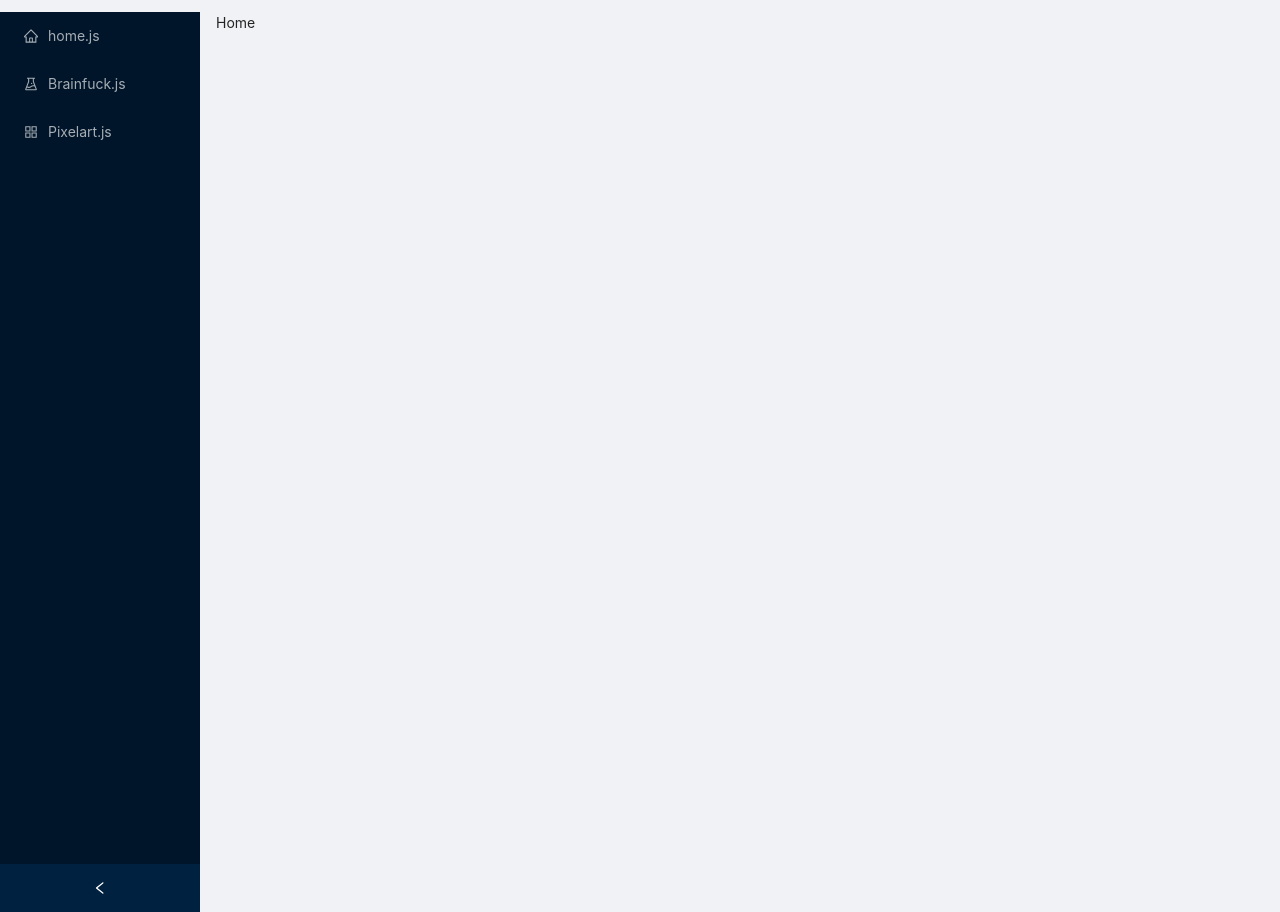
Test: changes to brainfuck page
Expected: the text "Home" is shown, [216,14,255,31]
Click the menu item "Brainfuck.js" at (75, 84), box [24,75,126,92]
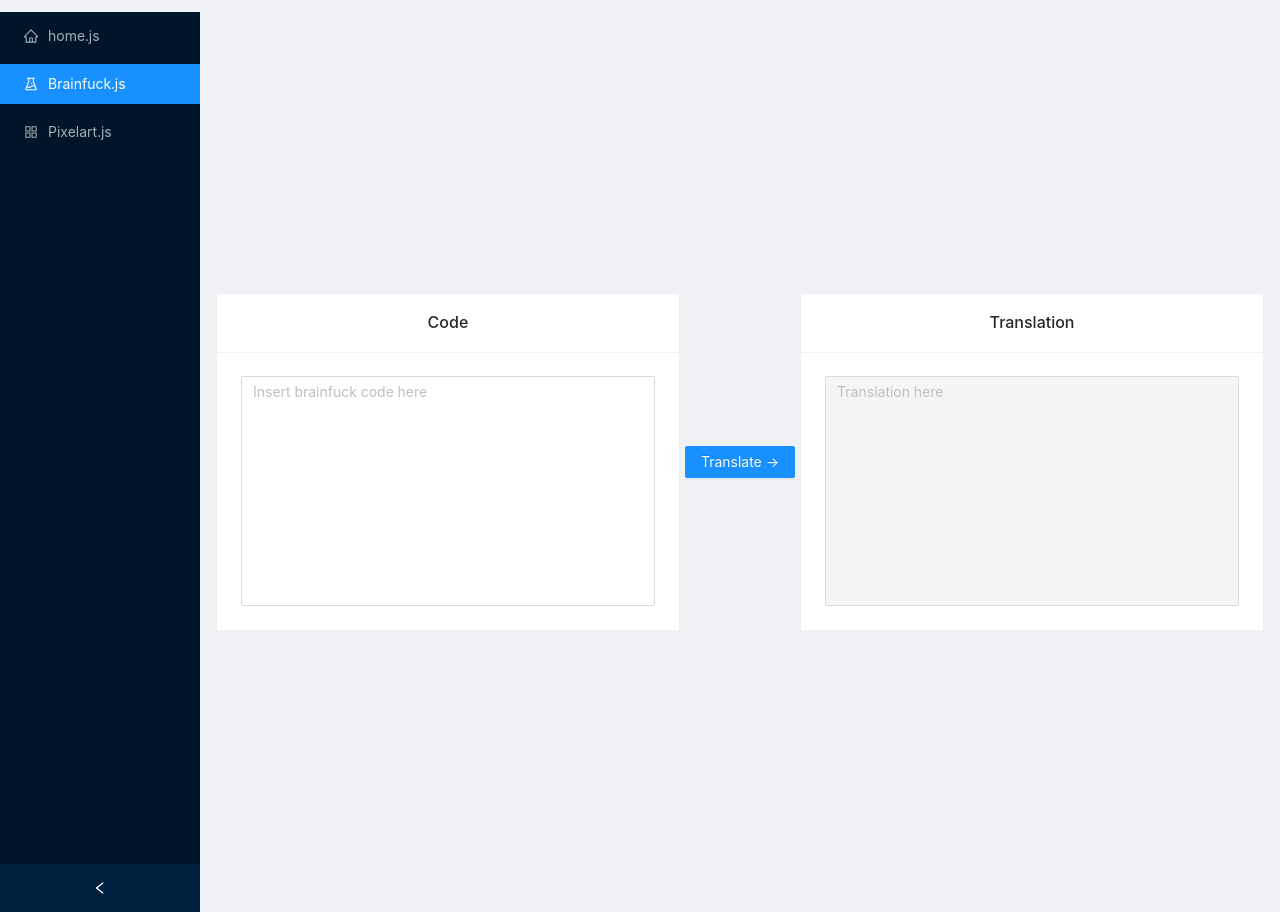
Expected: the element with test id "brainfuck-page" is shown, [216,293,1264,630]
